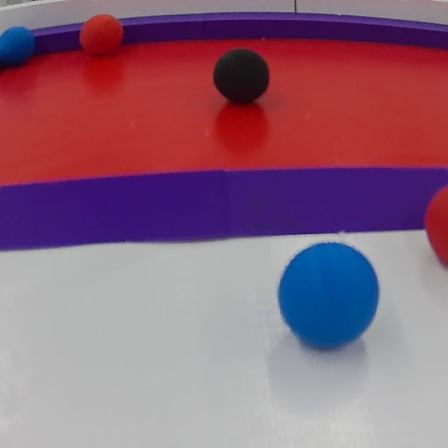black: (213, 48, 273, 105)
blue: (276, 241, 383, 352), (0, 23, 35, 73)
red: (76, 13, 128, 60)
red_aim: (3, 13, 448, 255)
